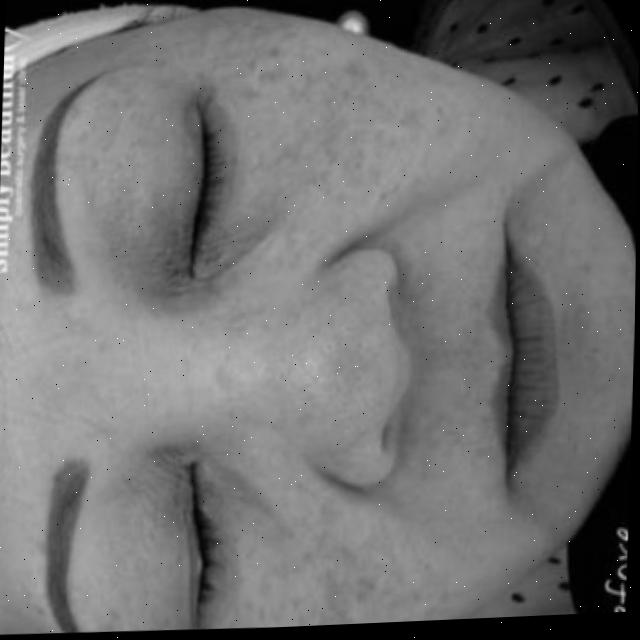Melasma: (186, 11, 465, 316), (180, 427, 405, 632)
